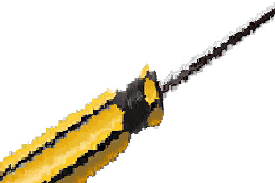screwdriver: (1, 7, 275, 183)
